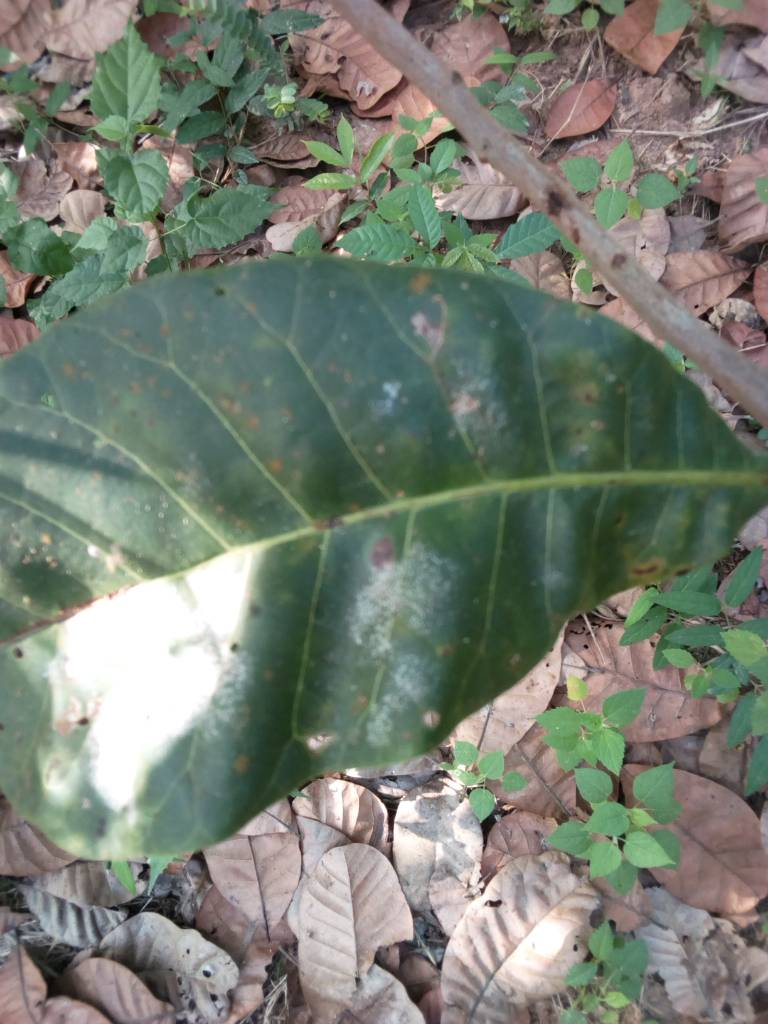Rouille: (1, 213, 768, 872)
